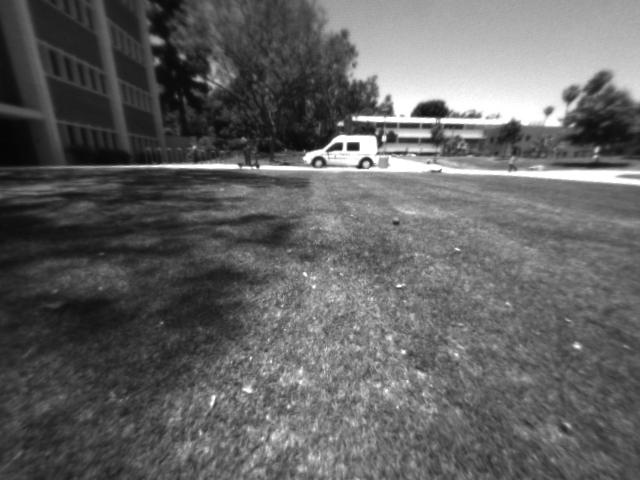dogtoy: (386, 211, 407, 228)
